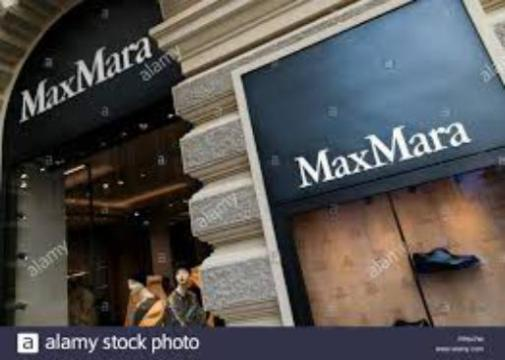MAX-MARA: (301, 116, 468, 192), (17, 32, 151, 122)
